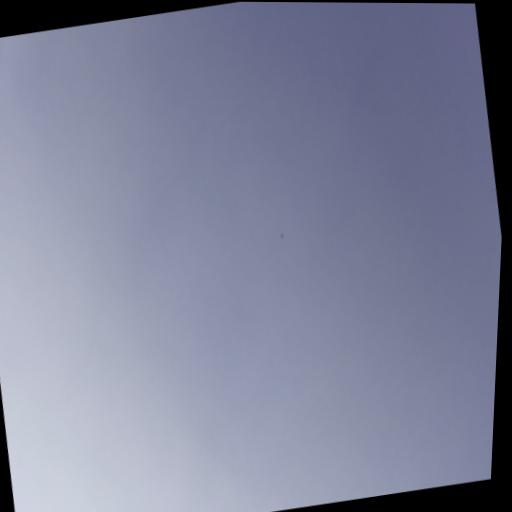drones: (278, 230, 285, 240)
